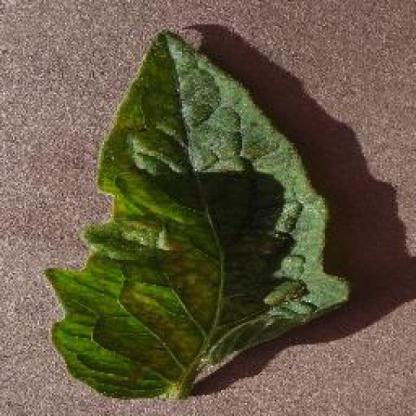Tomato_Spider_Mites: (46, 31, 352, 390)
